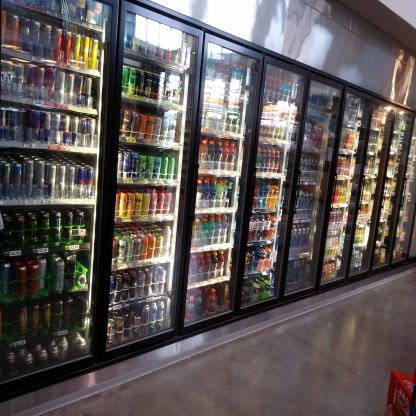Void: (86, 210, 91, 242), (220, 287, 224, 312), (79, 253, 88, 264)
